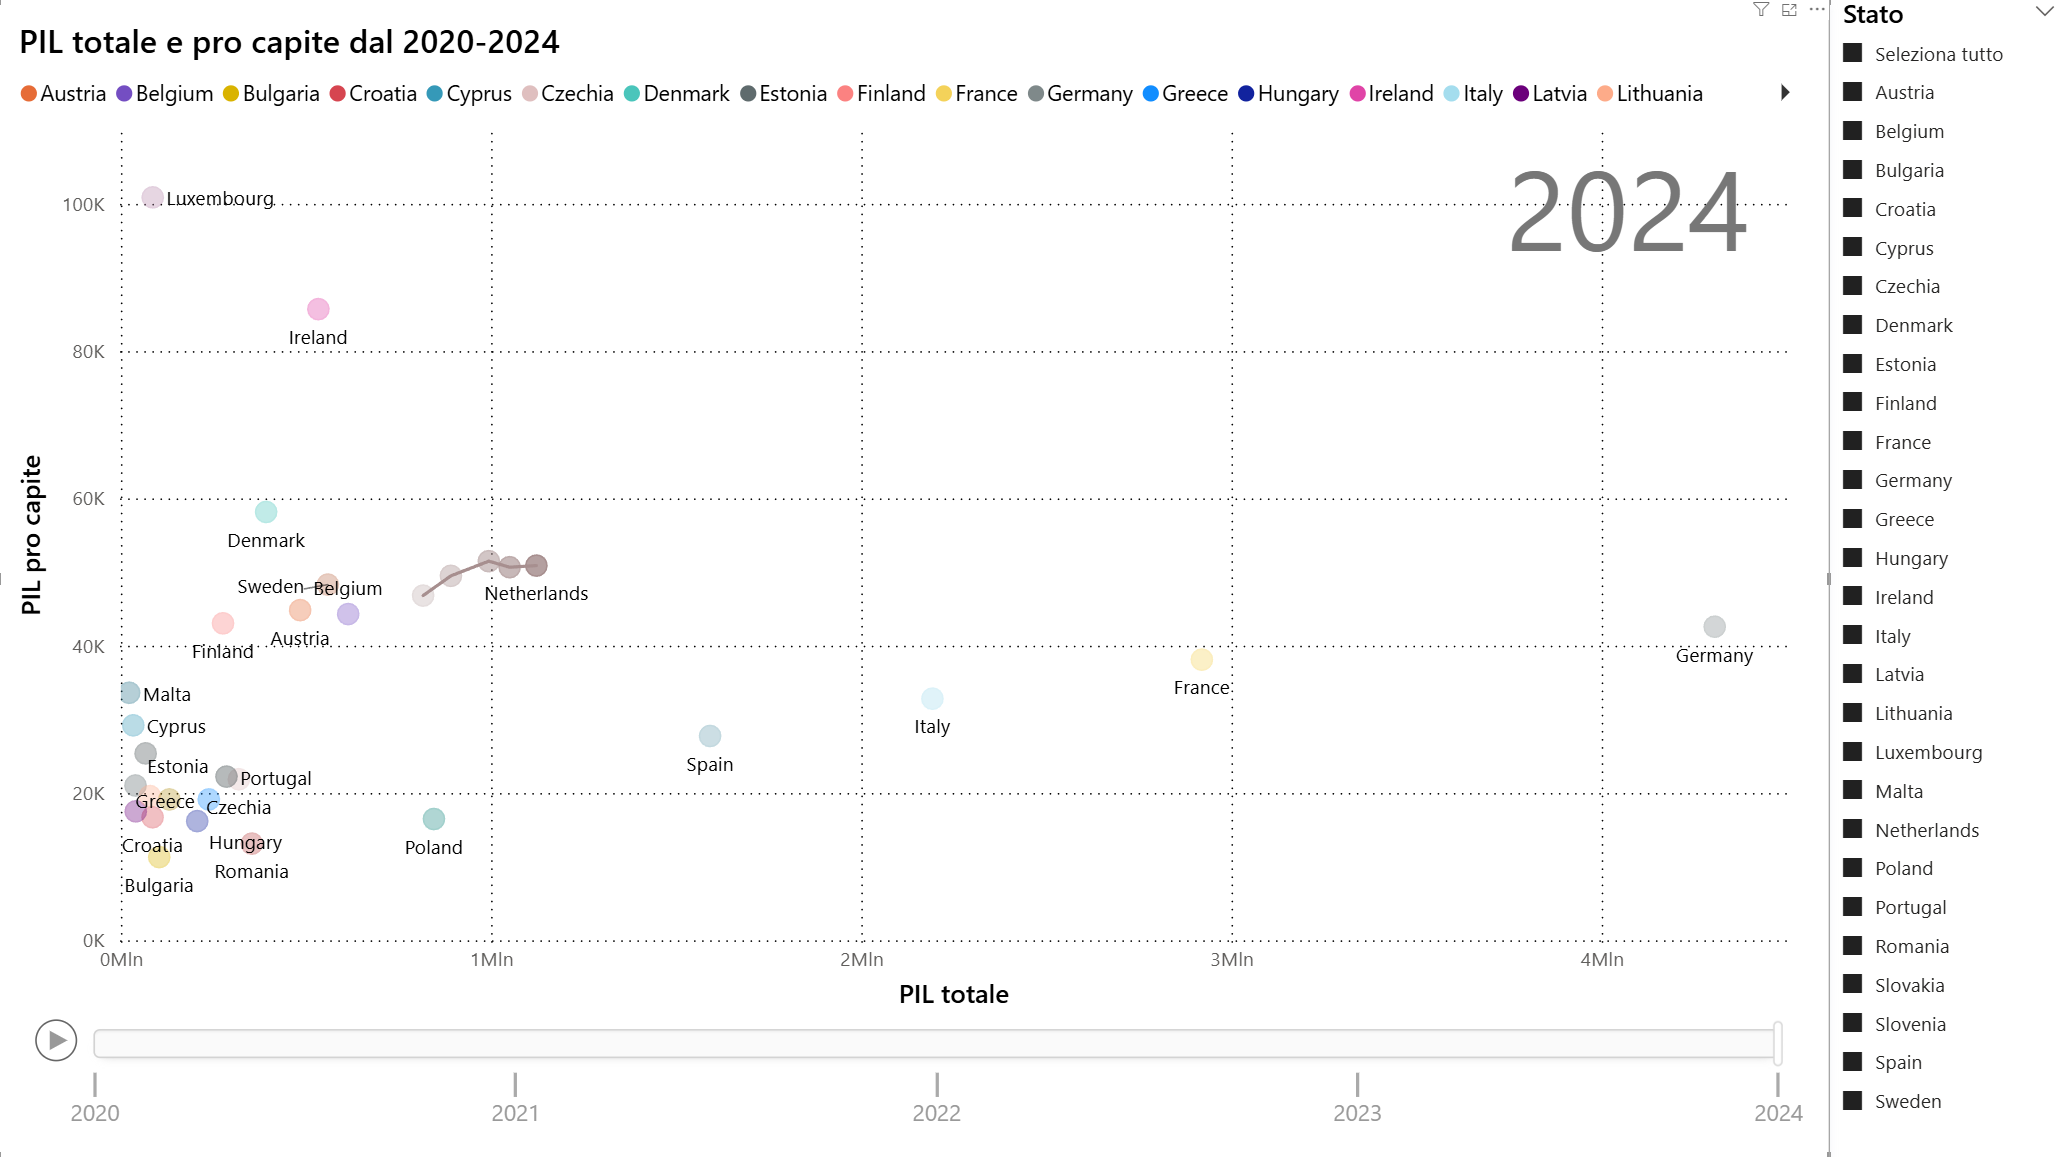

The dashboard page shown, as its layout file describes it:
{"tool":"powerbi","page":{"name":"PIL Totale e capita nel tempo","canvas":[1280,720],"ordinal":3},"visuals":[{"type":"scatterChart","title":"PIL totale e pro capite dal 2020-2024","fields":{"Play":["Europa tendenze_di_crescita_economica.Anno"],"X":["Sum(Europa tendenze_di_crescita_economica.Gdp_totale)"],"Y":["Avg(Europa tendenze_di_crescita_economica.Gdp_per_capita)"],"Series":["Europa tendenze_di_crescita_economica.Stato"]},"box":[0,0,1133.5,720.4],"z":0},{"type":"slicer","fields":{"Values":["Europa tendenze_di_crescita_economica.Stato"]},"box":[1133.5,0,147.1,720.4],"z":1000}]}

Visuals, with their boxes on the page's 1280x720 design canvas (x1, y1, x2, y2). These are canvas units, not pixel positions in the 2067x1157 screenshot, which may show the page scaled, cropped or inside an application window:
"PIL totale e pro capite dal 2020-2024" scatterChart: [0,0,1134,720]
slicer - Europa tendenze_di_crescita_economica.Stato: [1134,0,1281,720]
